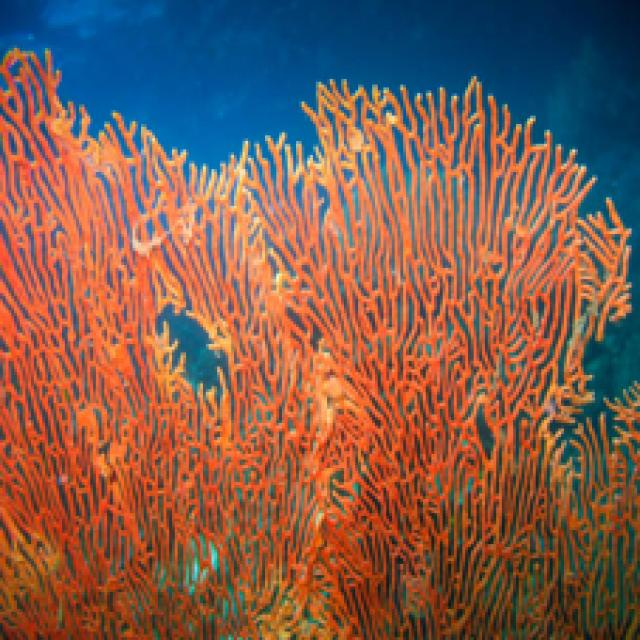Healthy: (1, 55, 638, 638)
